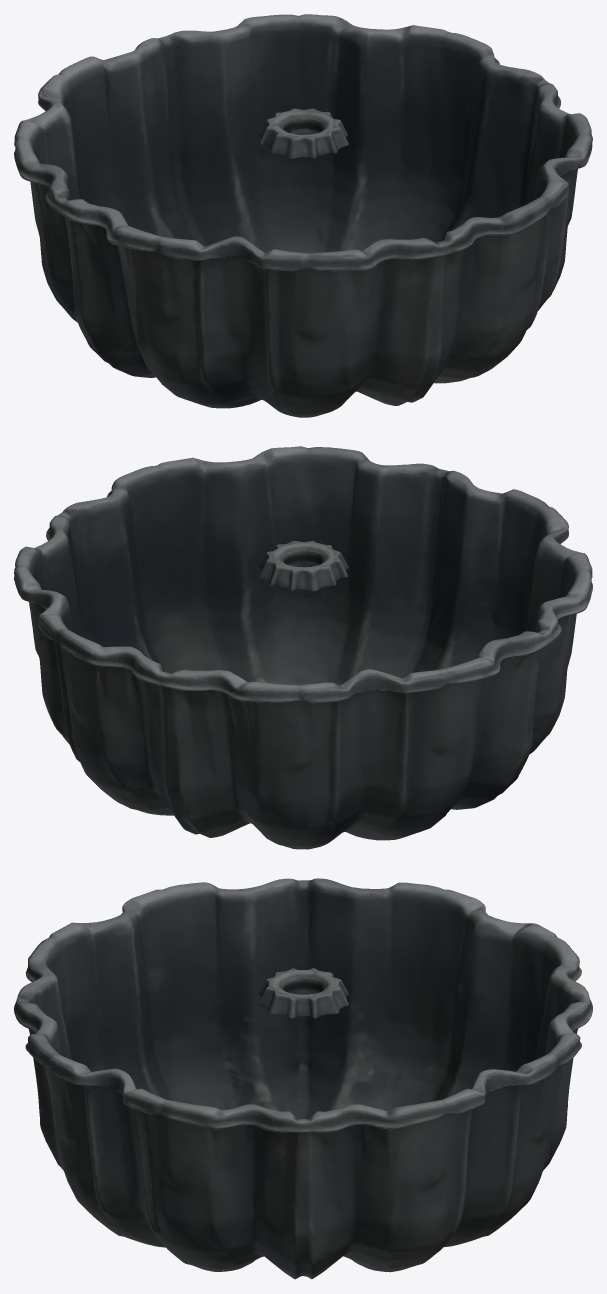
Rendered from Nordic_Ware_Original_Bundt_Pan.glb.
3 renders of one model, top to bottom at view 1: azimuth 30°, elevation 25°; view 2: azimuth 150°, elevation 25°; view 3: azimuth 270°, elevation 25°, orthographic.
Parts seen in each view (by area): view 1: geometry_0; view 2: geometry_0; view 3: geometry_0.
Boxes of the visible parts, x1,y1,x2,y2 form: geometry_0: (14,14,592,417); geometry_0: (14,446,592,849); geometry_0: (14,878,592,1279).
Bounding box in the file's own units: 1 × 0.4369 × 1.
Materials: 1 (1 with a texture image).
